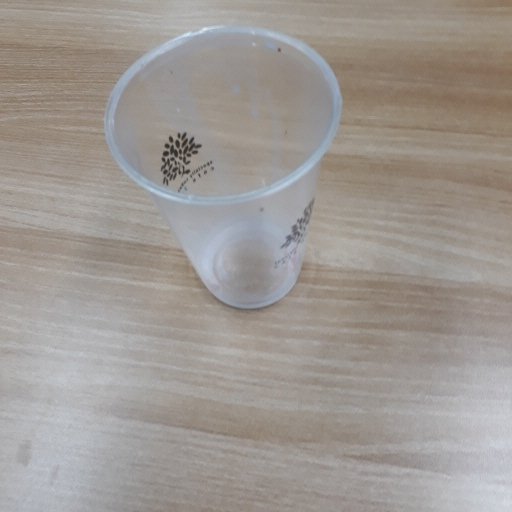Plastic_2: (97, 22, 346, 314)
